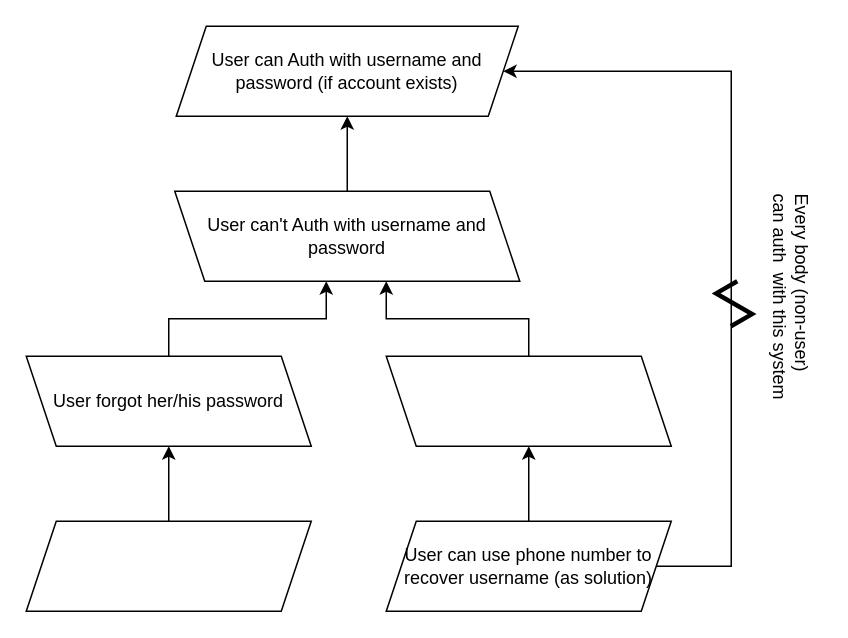
This 848x638 diagram has some shape labels left out. Each missing label, with the box of its shape:
User can use "forget password" option to recover account (as solution): (25, 520, 311, 611)
User forgot her/his username: (385, 355, 671, 446)
